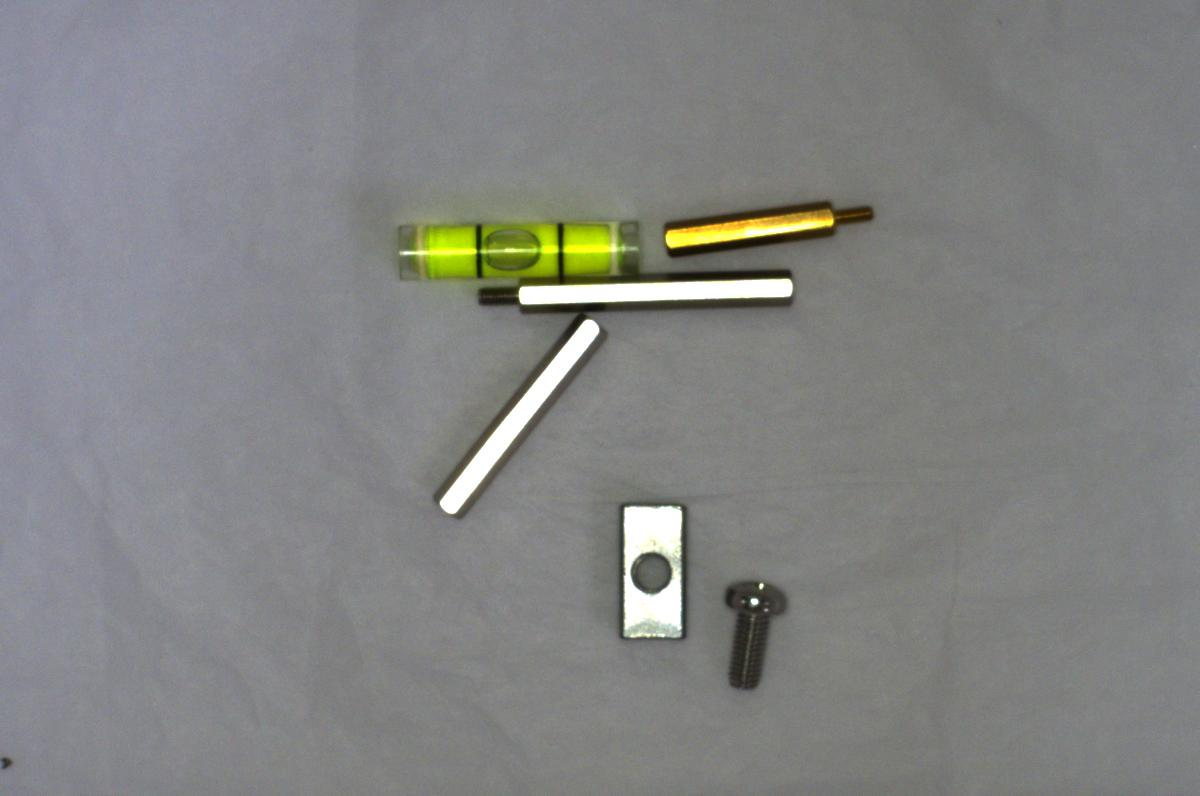Double hexagonal column: (425, 305, 605, 523)
Hexagon pillar: (655, 196, 888, 256)
Hexagonal steel column: (462, 266, 800, 314)
Horizontal bubble: (388, 210, 645, 281)
Rectangular nut: (613, 490, 697, 642)
Round head screw: (714, 573, 786, 696)
